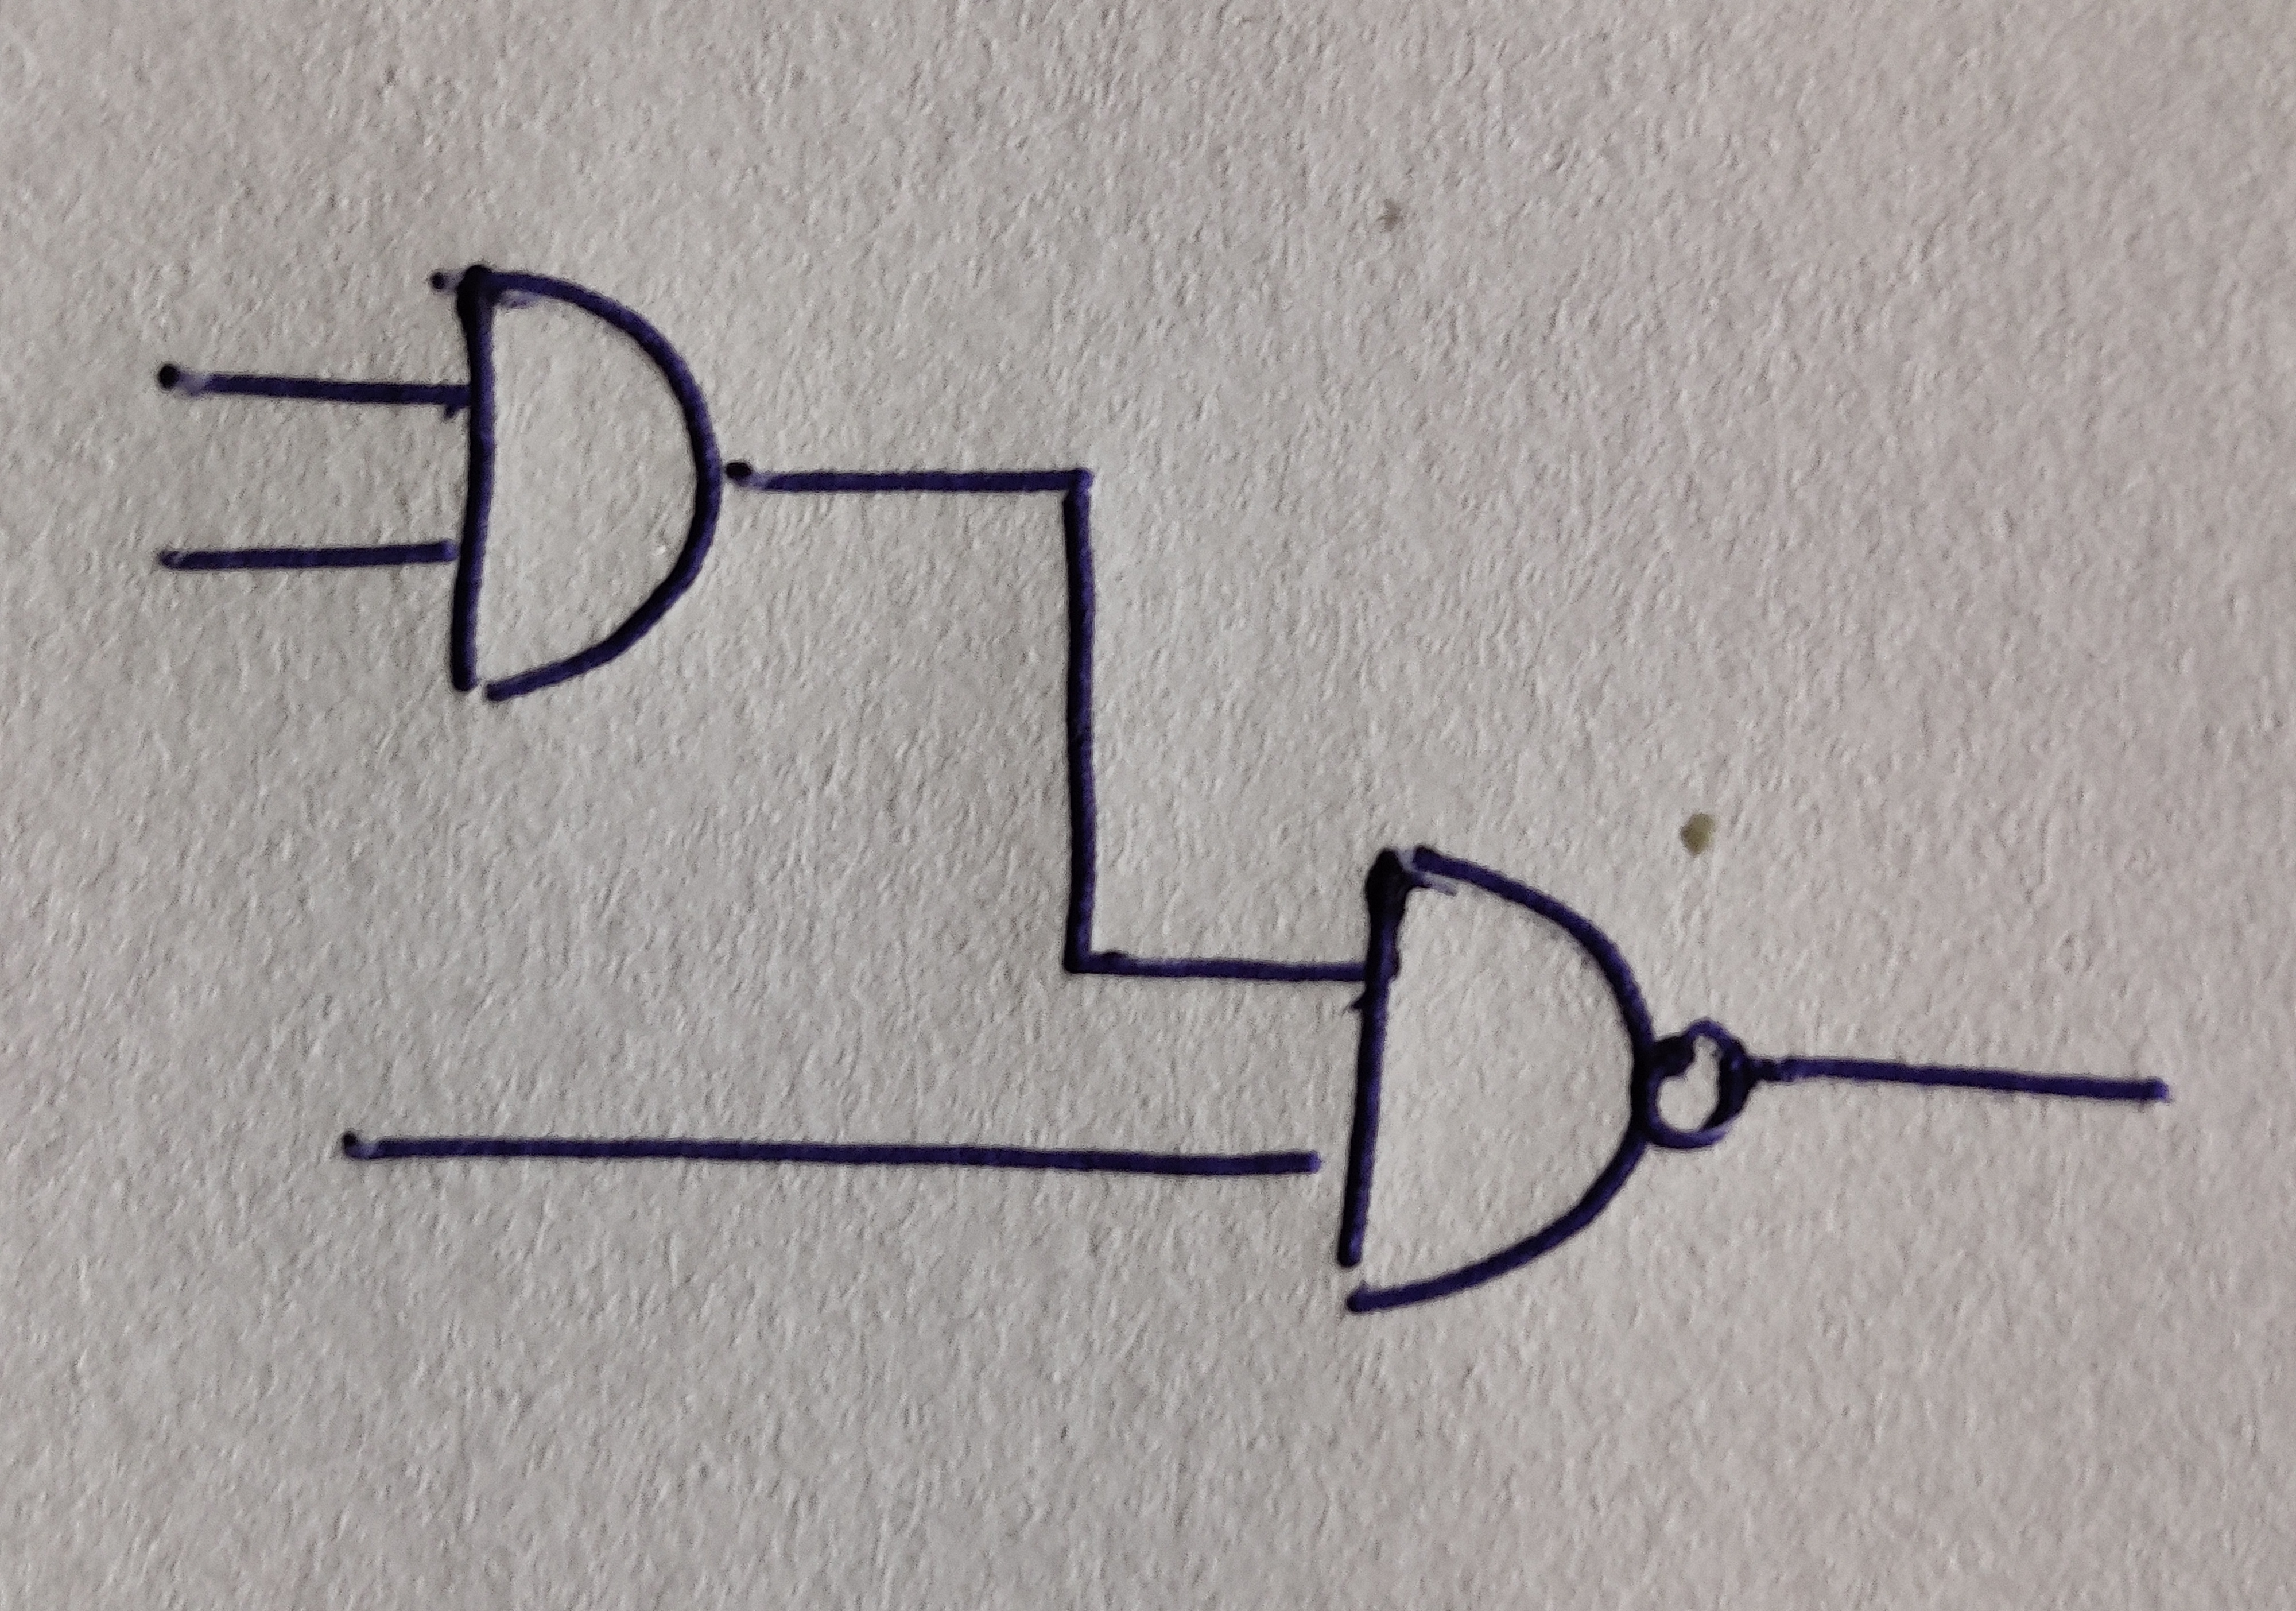and: (1336, 847, 1656, 1318), (450, 265, 722, 707)
not: (1637, 1018, 1750, 1150)
